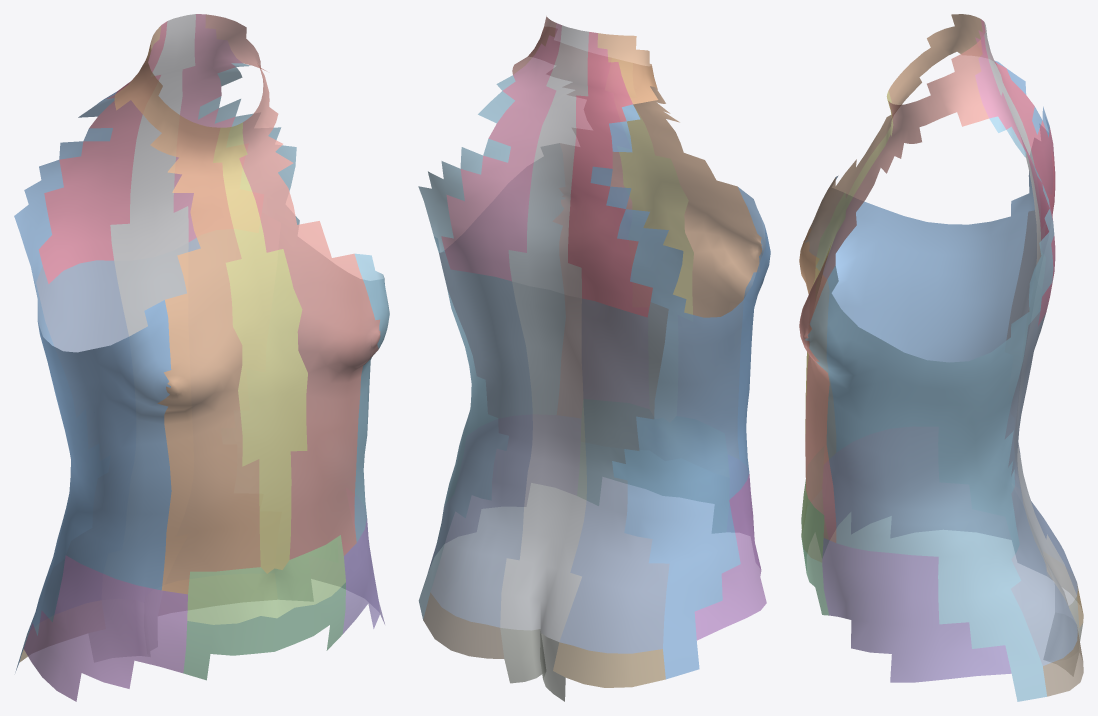
File: malianteo_body_v1_torso_t1.glb
The picture shows the model from 3 angles, left to right: view 1: azimuth 30°, elevation 25°; view 2: azimuth 150°, elevation 25°; view 3: azimuth 270°, elevation 25°; orthographic projection. The views are drawn at different scales.
Parts seen in each view (by area): view 1: zone_left_ribs, zone_right_chest, zone_right_ribs, zone_left_chest, zone_left_mid_back, zone_mid_back_center, zone_sternum, zone_right_mid_back, zone_right_flank, zone_right_scapula, zone_left_scapula, zone_upper_back_center (+6 smaller); view 2: zone_right_ribs, zone_left_ribs, zone_right_mid_back, zone_left_chest, zone_mid_back_center, zone_right_chest, zone_left_mid_back, zone_sternum, zone_left_scapula, zone_right_scapula, zone_upper_back_center, zone_left_flank (+6 smaller); view 3: zone_left_ribs, zone_right_ribs, zone_left_flank, zone_right_flank, zone_left_chest, zone_right_chest, zone_left_mid_back, zone_right_mid_back, zone_left_scapula, zone_mid_back_center, zone_right_scapula, zone_upper_abdomen (+6 smaller).
Part boxes in pixels (bbox=[...]): zone_left_ribs: bbox=[198, 63, 389, 600]; zone_right_chest: bbox=[114, 25, 260, 594]; zone_right_ribs: bbox=[14, 91, 171, 672]; zone_left_chest: bbox=[205, 14, 380, 559]; zone_left_mid_back: bbox=[165, 213, 281, 583]; zone_mid_back_center: bbox=[102, 243, 193, 601]; zone_sternum: bbox=[213, 122, 307, 573]; zone_right_mid_back: bbox=[28, 260, 135, 631]; zone_right_flank: bbox=[23, 555, 187, 701]; zone_right_scapula: bbox=[38, 21, 167, 283]; zone_left_scapula: bbox=[173, 14, 263, 241]; zone_upper_back_center: bbox=[110, 14, 195, 260]; zone_right_ribs: bbox=[590, 104, 770, 679]; zone_left_ribs: bbox=[418, 75, 565, 619]; zone_right_mid_back: bbox=[559, 298, 669, 653]; zone_left_chest: bbox=[512, 16, 648, 417]; zone_mid_back_center: bbox=[500, 281, 586, 641]; zone_right_chest: bbox=[597, 33, 762, 458]; zone_left_mid_back: bbox=[430, 252, 532, 627]; zone_sternum: bbox=[605, 58, 693, 421]; zone_left_scapula: bbox=[441, 23, 561, 281]; zone_right_scapula: bbox=[568, 32, 652, 317]; zone_upper_back_center: bbox=[508, 25, 588, 298]; zone_left_flank: bbox=[429, 415, 580, 568]; zone_left_ribs: bbox=[805, 116, 1054, 701]; zone_right_ribs: bbox=[806, 61, 1053, 575]; zone_left_flank: bbox=[822, 538, 1011, 682]; zone_right_flank: bbox=[823, 427, 1010, 539]; zone_left_chest: bbox=[799, 39, 988, 542]; zone_right_chest: bbox=[799, 14, 986, 465]; zone_left_mid_back: bbox=[1004, 291, 1077, 665]; zone_right_mid_back: bbox=[1005, 210, 1077, 595]; zone_left_scapula: bbox=[975, 35, 1055, 325]; zone_mid_back_center: bbox=[1014, 276, 1076, 620]; zone_right_scapula: bbox=[975, 19, 1055, 235]; zone_upper_abdomen: bbox=[801, 447, 824, 562].
Size of the model in its own units: 0.3315 by 0.6607 by 0.2657.
